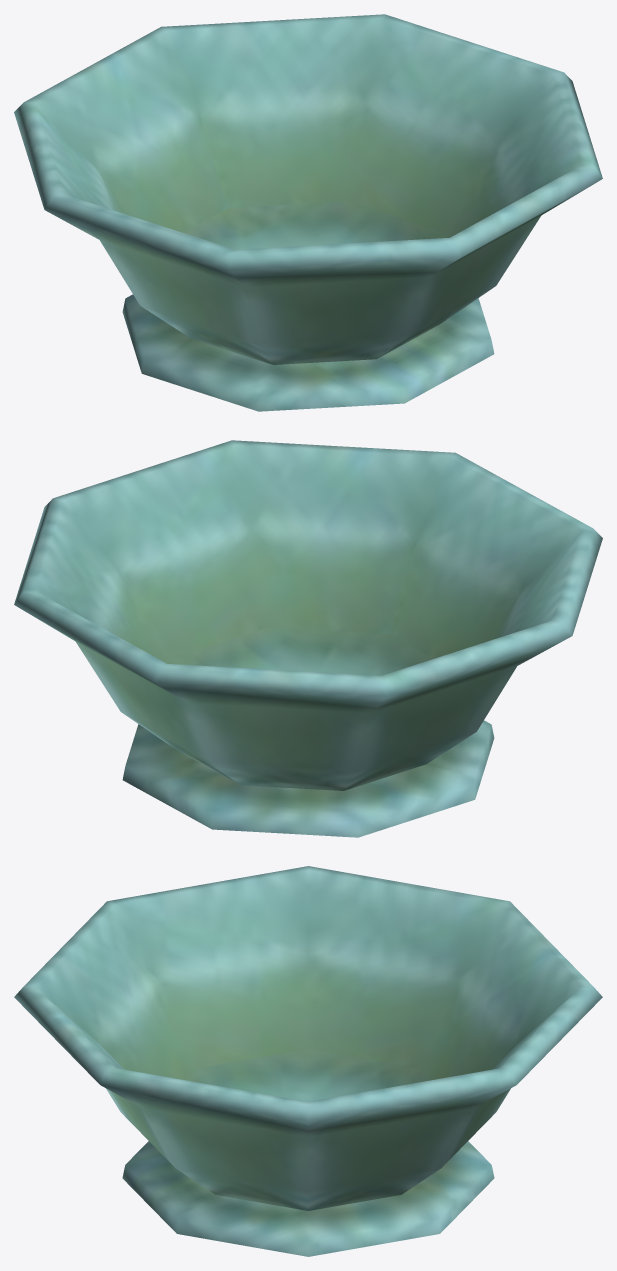
The model's file is t4_bowl_crystal.glb.
3 views of the same model, one above another, from view 1: azimuth 30°, elevation 25°; view 2: azimuth 150°, elevation 25°; view 3: azimuth 270°, elevation 25° (orthographic). The views are drawn at different scales.
Parts seen in each view (by area): view 1: kitchen_props_craftable_bowl_crystal_01; view 2: kitchen_props_craftable_bowl_crystal_01; view 3: kitchen_props_craftable_bowl_crystal_01.
Boxes of the visible parts, bbox=[...] form: kitchen_props_craftable_bowl_crystal_01: bbox=[14, 14, 602, 411]; kitchen_props_craftable_bowl_crystal_01: bbox=[14, 440, 602, 837]; kitchen_props_craftable_bowl_crystal_01: bbox=[14, 866, 602, 1256].
Size of the model in its own units: 0.6597 by 0.237 by 0.6592.
Materials: 1 (1 with a texture image).
